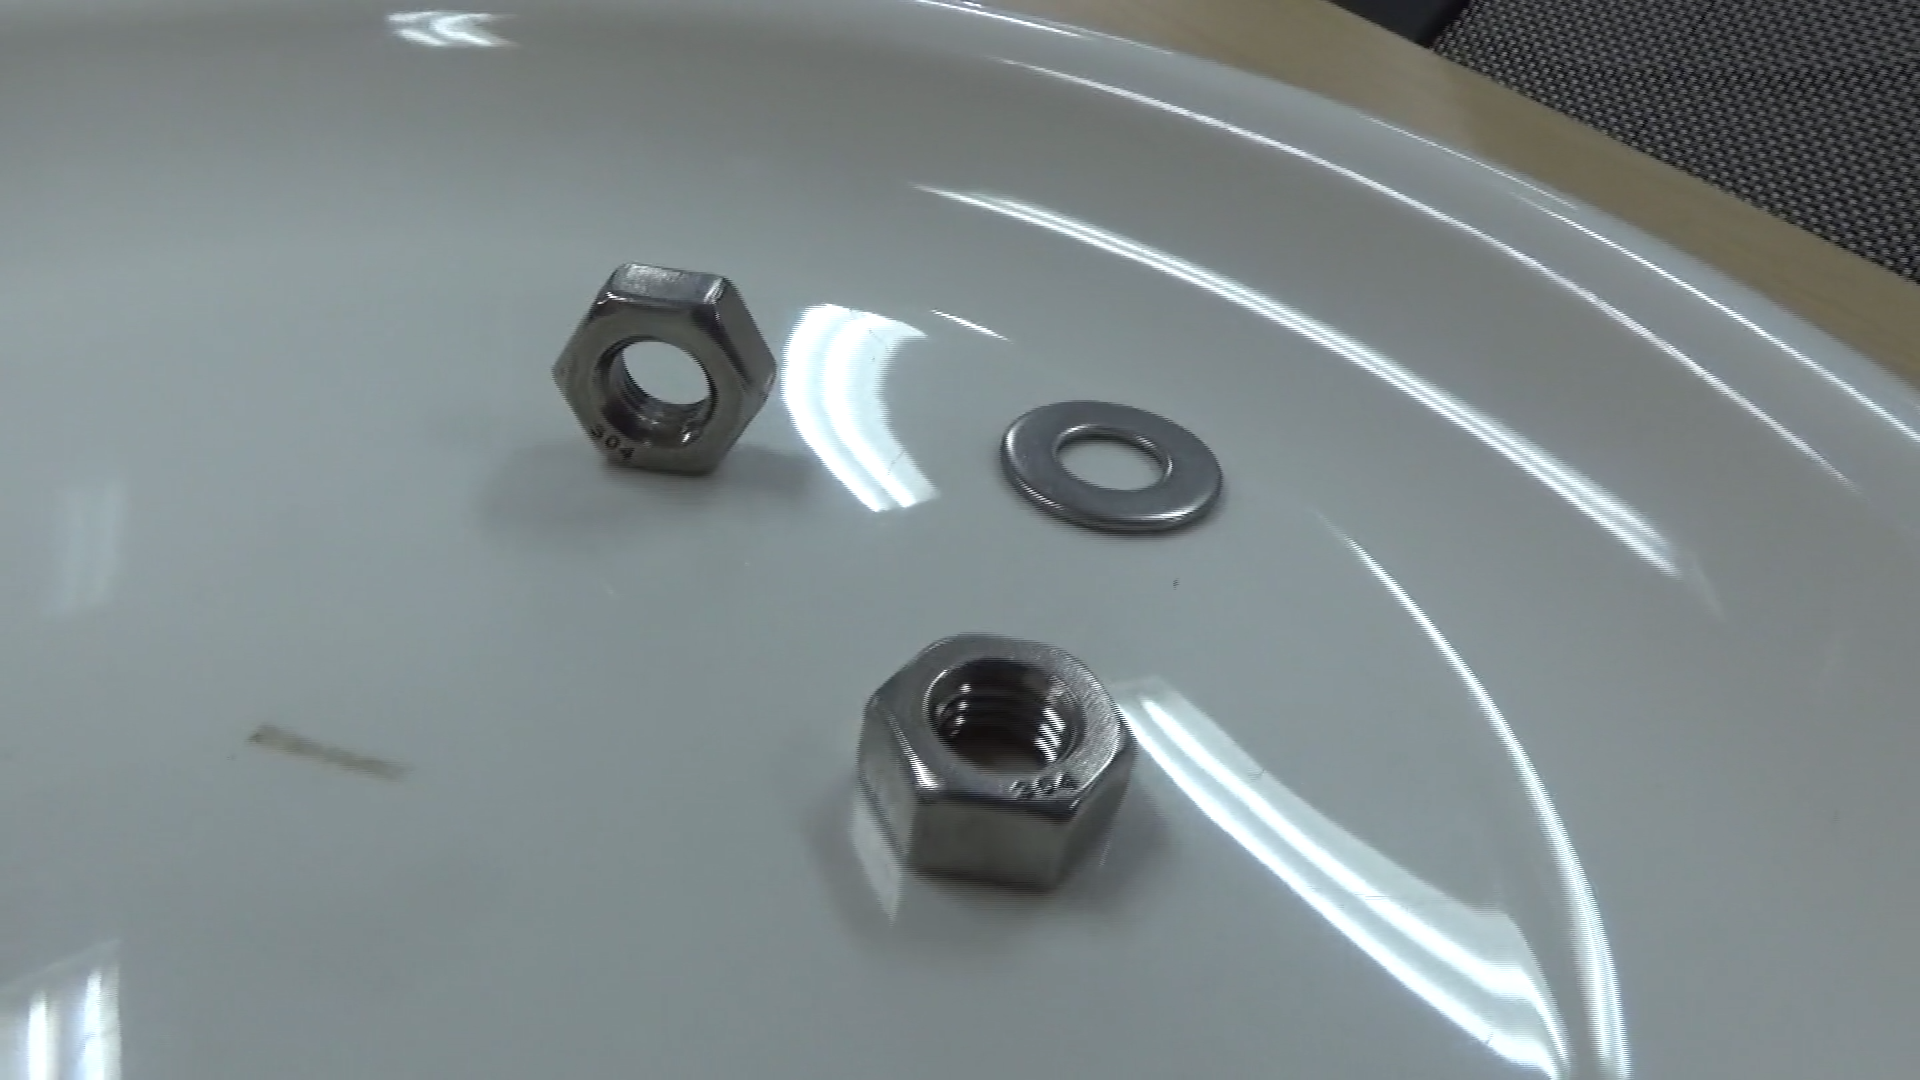nut: (853, 626, 1134, 897), (549, 255, 778, 483)
washer: (992, 396, 1222, 535)
